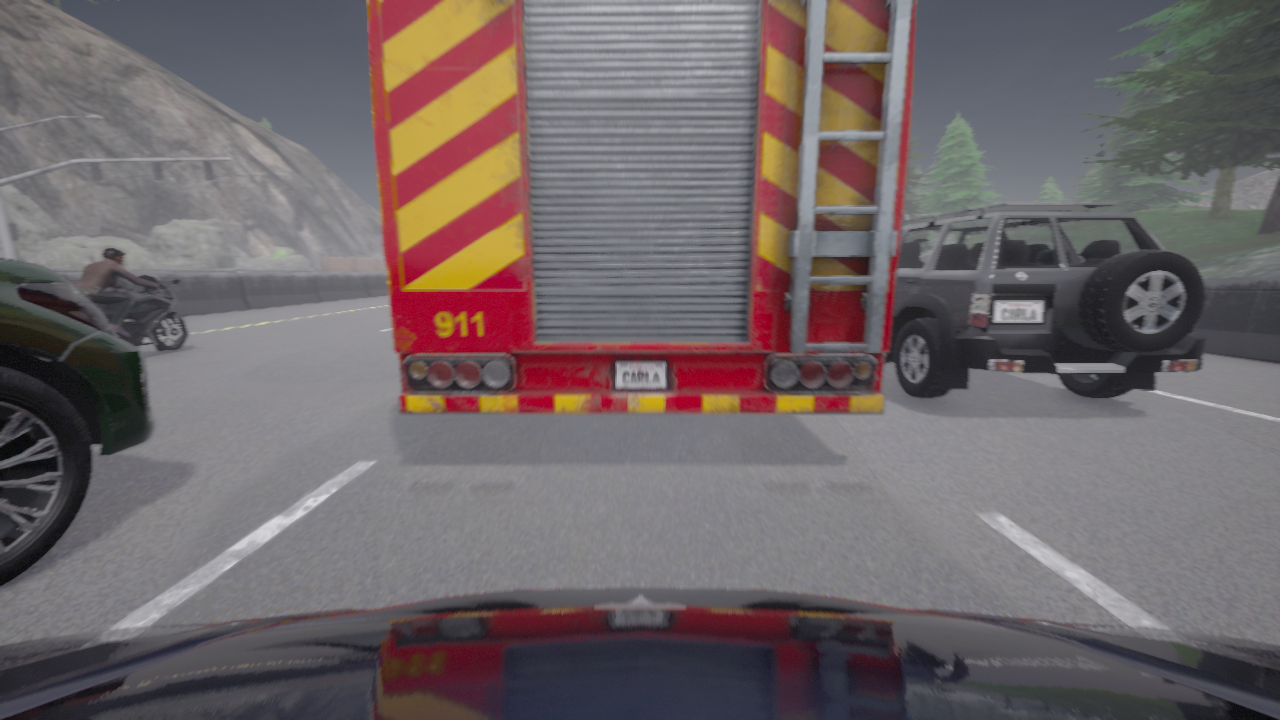cyclist: (367, 0, 916, 413), (0, 588, 1279, 719), (883, 203, 1206, 399), (93, 274, 188, 351)
